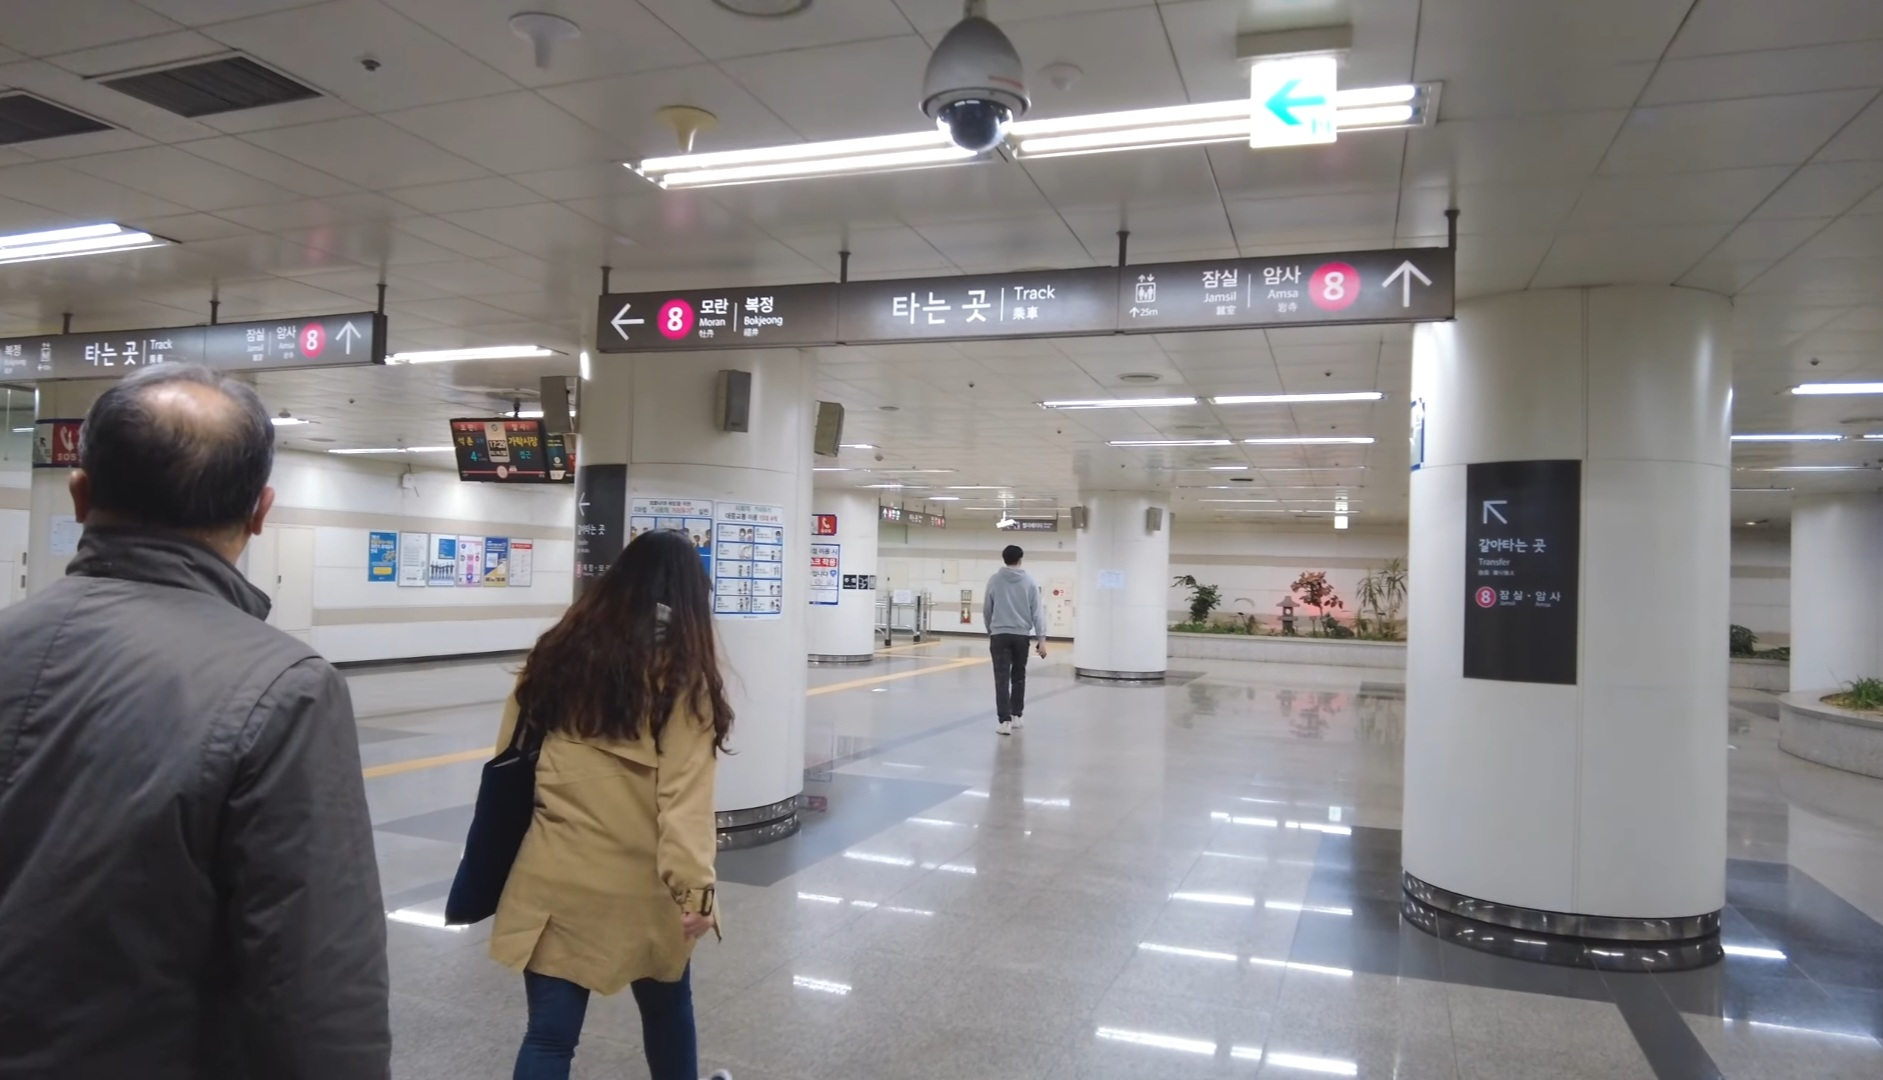signBoard: (592, 235, 1458, 361)
